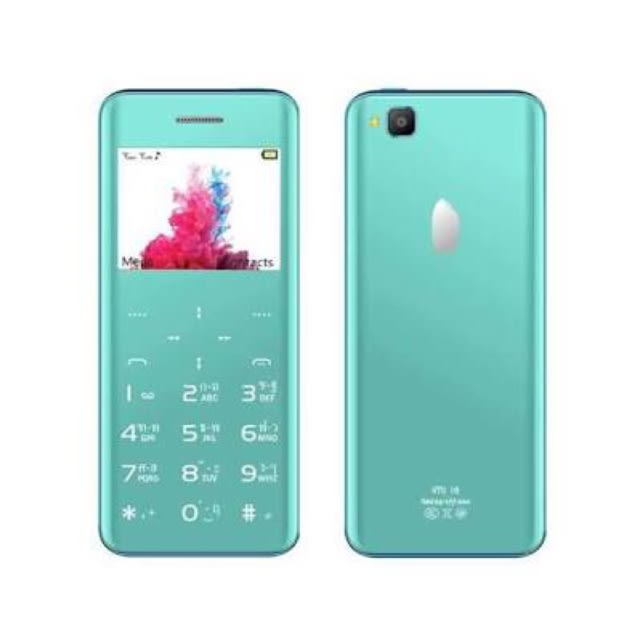Phone: (96, 85, 303, 560), (341, 85, 548, 560)
